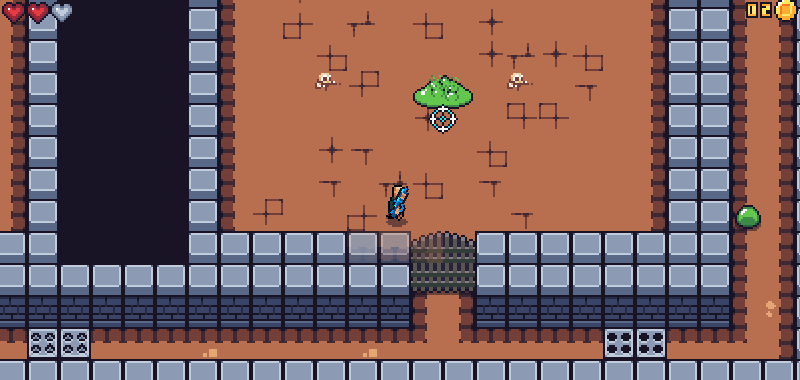enemy_slug: (730, 201, 765, 232)
enemy_slug_boss: (399, 55, 485, 131)
trap_door: (405, 224, 479, 297)
trap_off: (25, 326, 90, 360), (605, 326, 666, 359)
